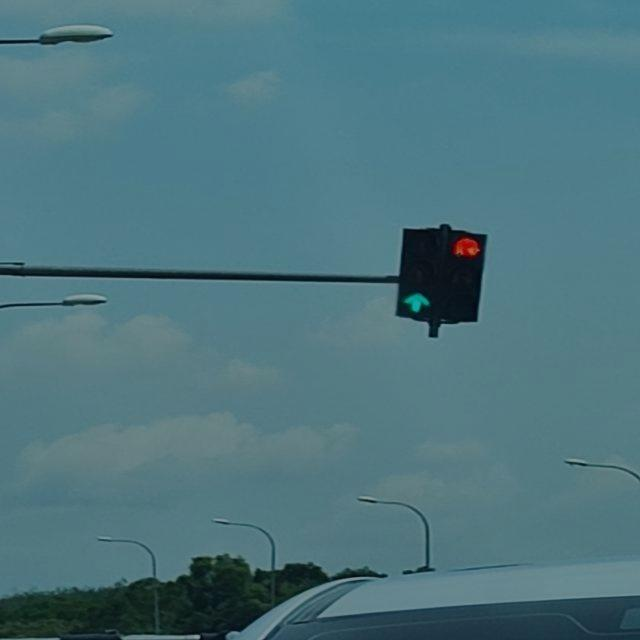Green: (395, 227, 448, 321)
Red: (442, 228, 488, 324)
